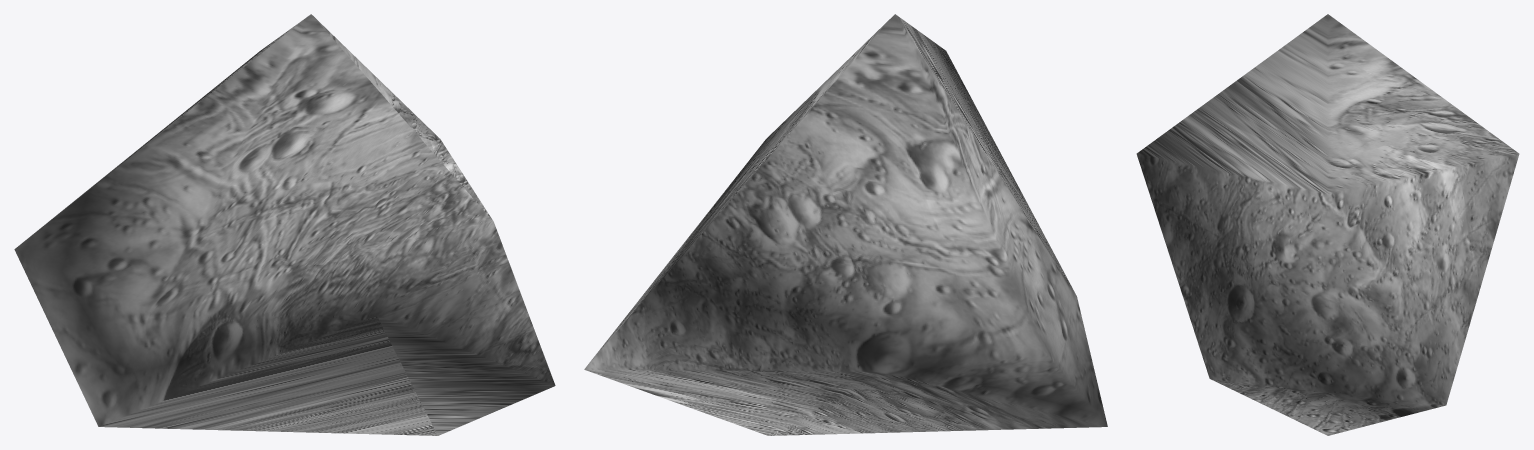
Rendered from Asteroid2.obj.
3 views of the same model, side by side, from view 1: azimuth 30°, elevation 25°; view 2: azimuth 150°, elevation 25°; view 3: azimuth 270°, elevation 25° (orthographic). The views are drawn at different scales.
Parts seen in each view (by area): view 1: GeoSphere001; view 2: GeoSphere001; view 3: GeoSphere001.
Part boxes in pixels (box(x1,y1,x2,y2)): GeoSphere001: box(14, 14, 555, 435); GeoSphere001: box(584, 14, 1107, 435); GeoSphere001: box(1136, 14, 1519, 435).
Size of the model in its own units: 9.74 by 9.1 by 8.51.
